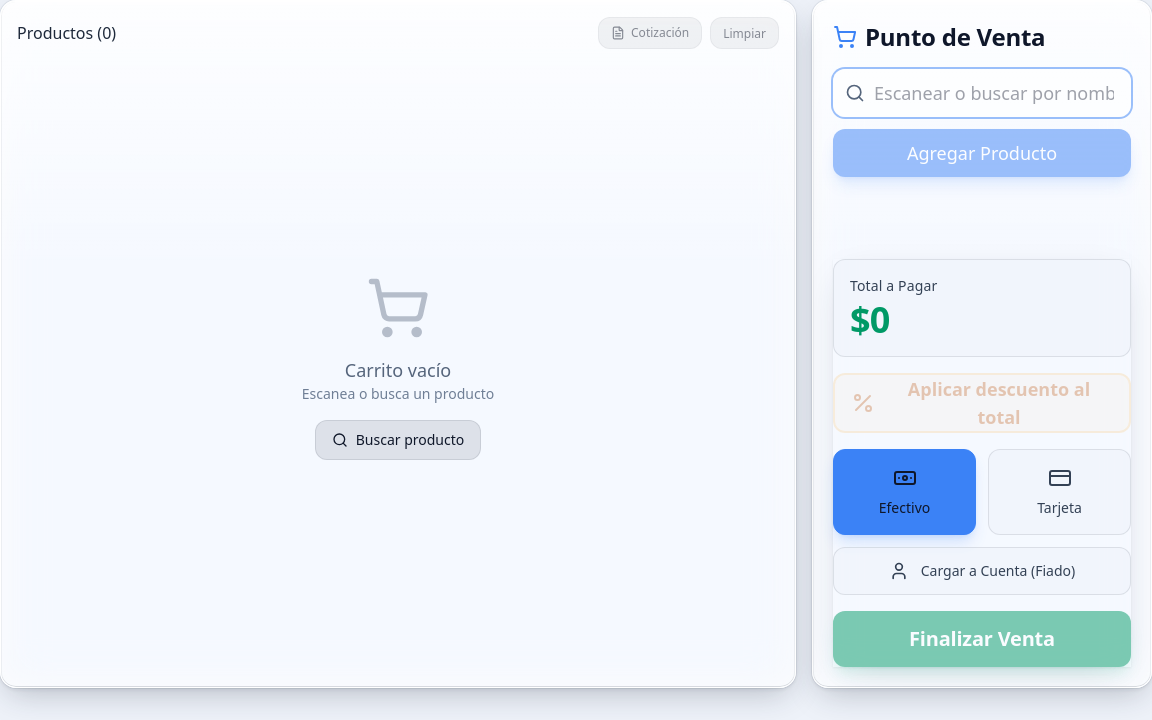
Test: Punto de venta › busca por nombre, navega con teclado y agrega con Enter
The width and height of the screenshot is (1152, 720).
Type "mo" into the dropdown with placeholder "Escanear o buscar por nombre...".
click(982, 93); type("mo")  # box [833, 69, 1131, 117]
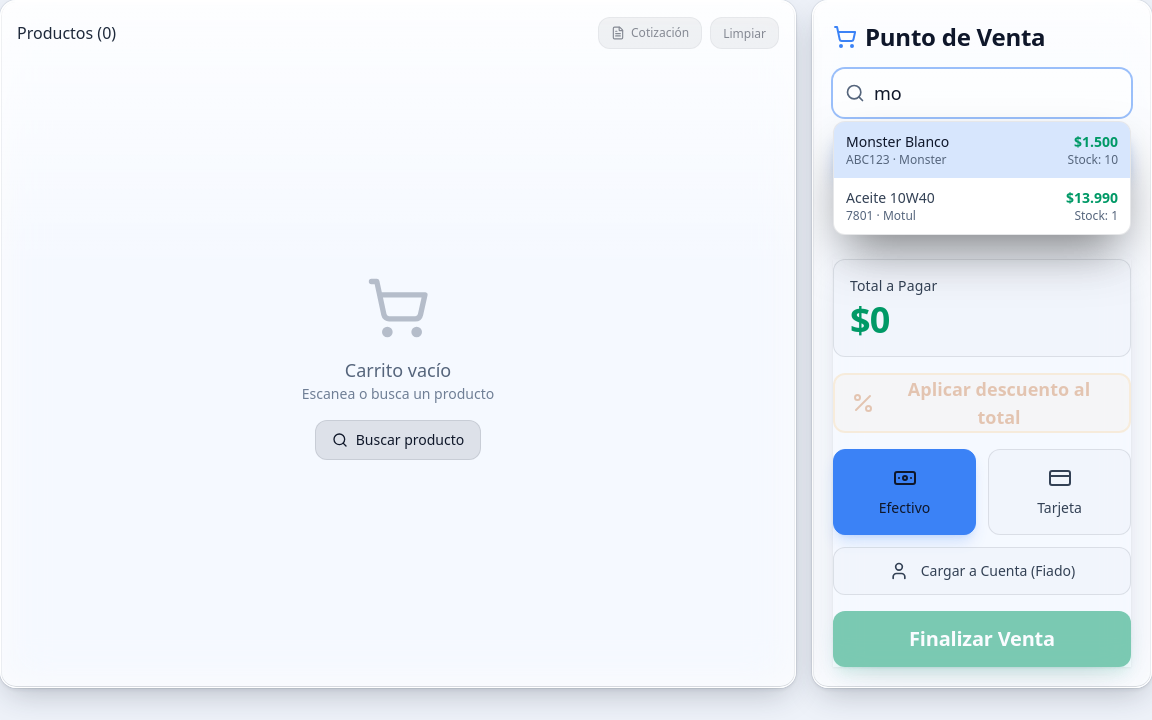
Press Arrowdown Enter
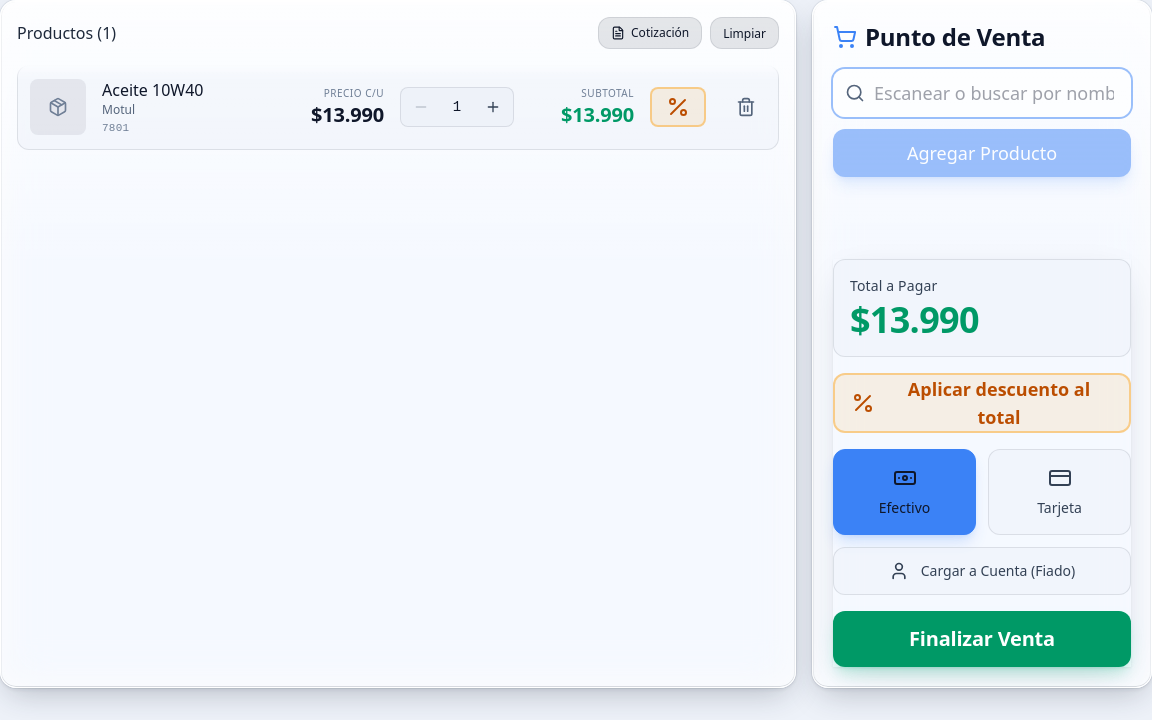
expect the heading "Aceite 10W40" is shown: met, box [102, 79, 204, 101]
expect the list is gone: met
